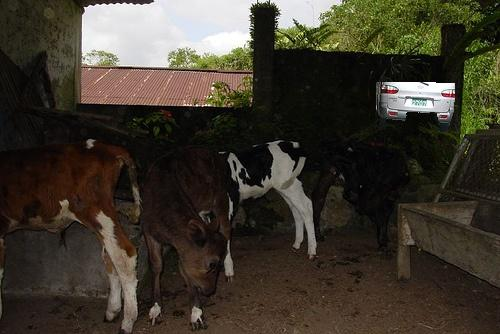tampered: (376, 83, 455, 132)
